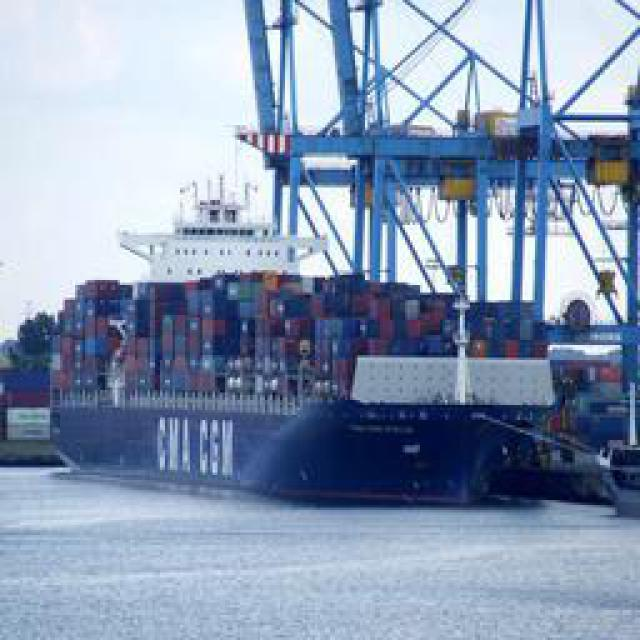Ship: (27, 149, 571, 522)
